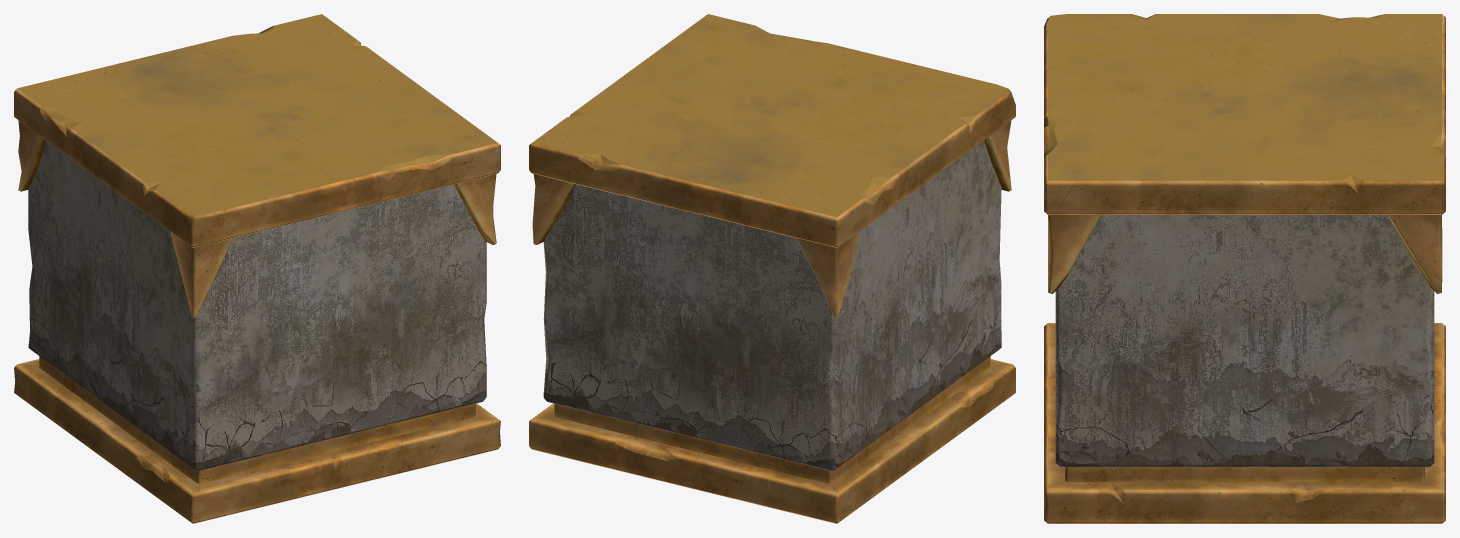
The picture shows the model from 3 angles, left to right: view 1: azimuth 30°, elevation 25°; view 2: azimuth 150°, elevation 25°; view 3: azimuth 270°, elevation 25°; orthographic projection. The views are drawn at different scales.
Parts seen in each view (by area): view 1: SM_Vault_2m_Column_01_LOD0; view 2: SM_Vault_2m_Column_01_LOD0; view 3: SM_Vault_2m_Column_01_LOD0.
Boxes of the visible parts, bbox=[...] form: SM_Vault_2m_Column_01_LOD0: bbox=[14, 14, 500, 523]; SM_Vault_2m_Column_01_LOD0: bbox=[529, 14, 1015, 523]; SM_Vault_2m_Column_01_LOD0: bbox=[1044, 14, 1445, 523].
Size of the model in its own units: 2.12 by 2 by 2.12.
Materials: 3 (3 with a texture image).
